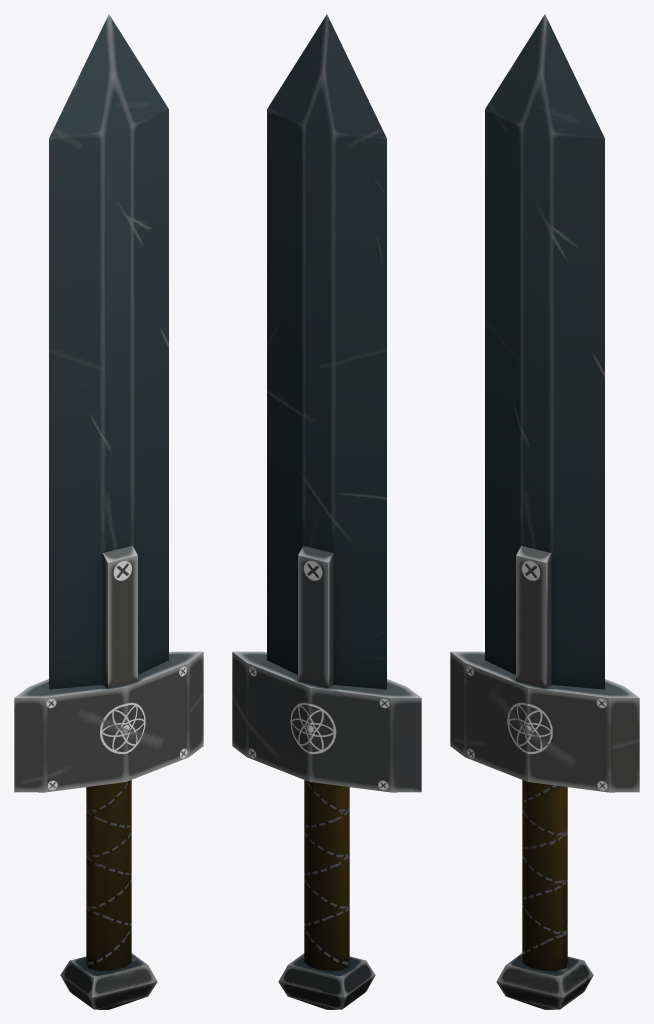
The model's file is sword.glb.
3 views of the same model, side by side, from view 1: azimuth 30°, elevation 25°; view 2: azimuth 150°, elevation 25°; view 3: azimuth 330°, elevation 25° (orthographic).
Parts seen in each view (by area): view 1: cuboid, cuboid_1, cylinder, cuboid_2, cuboid_3; view 2: cuboid, cuboid_1, cylinder, cuboid_2, cuboid_3; view 3: cuboid, cuboid_1, cylinder, cuboid_2, cuboid_3.
Boxes of the visible parts, left/top/right/bottom form: cuboid: left=49, top=14, right=168, bottom=689; cuboid_1: left=14, top=651, right=203, bottom=792; cylinder: left=86, top=780, right=131, bottom=970; cuboid_2: left=102, top=546, right=137, bottom=688; cuboid_3: left=60, top=953, right=157, bottom=1009; cuboid: left=267, top=14, right=386, bottom=689; cuboid_1: left=232, top=651, right=421, bottom=792; cylinder: left=304, top=780, right=349, bottom=970; cuboid_2: left=298, top=546, right=333, bottom=688; cuboid_3: left=278, top=953, right=375, bottom=1009; cuboid: left=485, top=14, right=604, bottom=689; cuboid_1: left=450, top=651, right=639, bottom=792; cylinder: left=522, top=780, right=567, bottom=970; cuboid_2: left=516, top=546, right=551, bottom=688; cuboid_3: left=496, top=953, right=593, bottom=1009.
Size of the model in its own units: 0.7875 by 3.96 by 0.25.
1 material, 1 textured.
